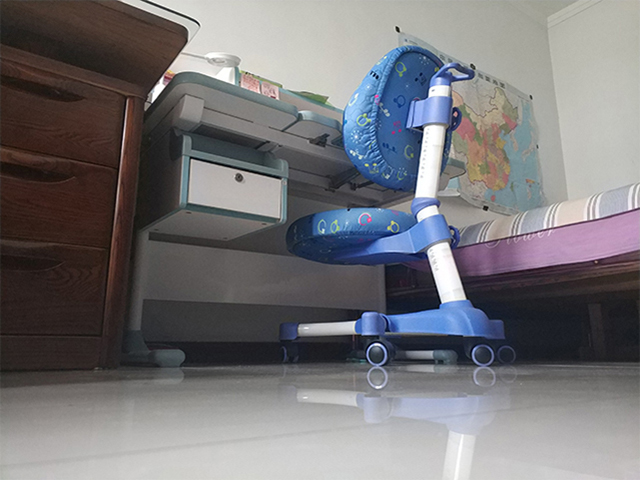bed: (386, 181, 640, 361)
cabinet: (1, 1, 201, 372)
stool: (277, 41, 520, 369)
table: (123, 69, 469, 369)
